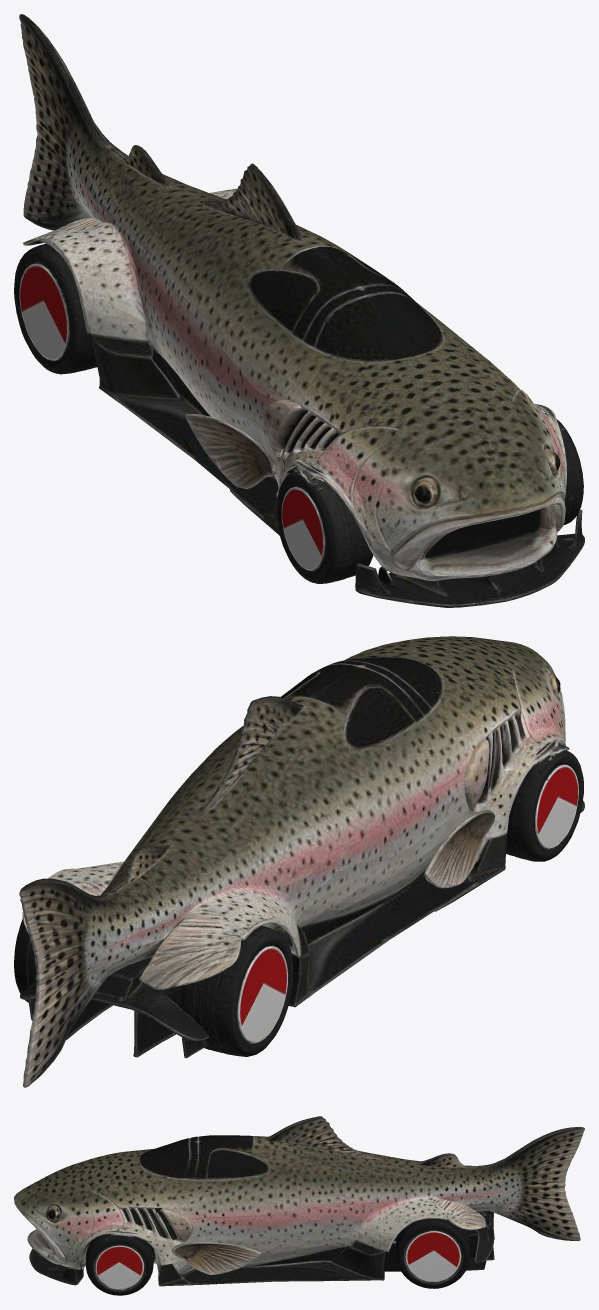
File: trout_protocol.glb
3 views of the same model, one above another, from view 1: azimuth 30°, elevation 25°; view 2: azimuth 150°, elevation 25°; view 3: azimuth 270°, elevation 25° (orthographic). The views are drawn at different scales.
Parts seen in each view (by area): view 1: body, wheel_FR_mesh, wheel_RR_mesh, wheel_FL_mesh; view 2: body, wheel_RR_mesh, wheel_FR_mesh, wheel_RL_mesh; view 3: body, wheel_RL_mesh, wheel_FL_mesh.
Boxes of the visible parts, bbox=[...] form: body: bbox=[19, 14, 584, 607]; wheel_FR_mesh: bbox=[276, 466, 373, 583]; wheel_RR_mesh: bbox=[14, 243, 97, 374]; wheel_FL_mesh: bbox=[545, 413, 583, 525]; body: bbox=[19, 636, 584, 1087]; wheel_RR_mesh: bbox=[180, 925, 293, 1056]; wheel_FR_mesh: bbox=[506, 742, 583, 861]; wheel_RL_mesh: bbox=[14, 918, 36, 1002]; body: bbox=[14, 1116, 584, 1286]; wheel_RL_mesh: bbox=[395, 1218, 475, 1288]; wheel_FL_mesh: bbox=[83, 1234, 154, 1295].
Size of the model in its own units: 1.67 by 1.6 by 5.67.
Materials: 1 (1 with a texture image).
